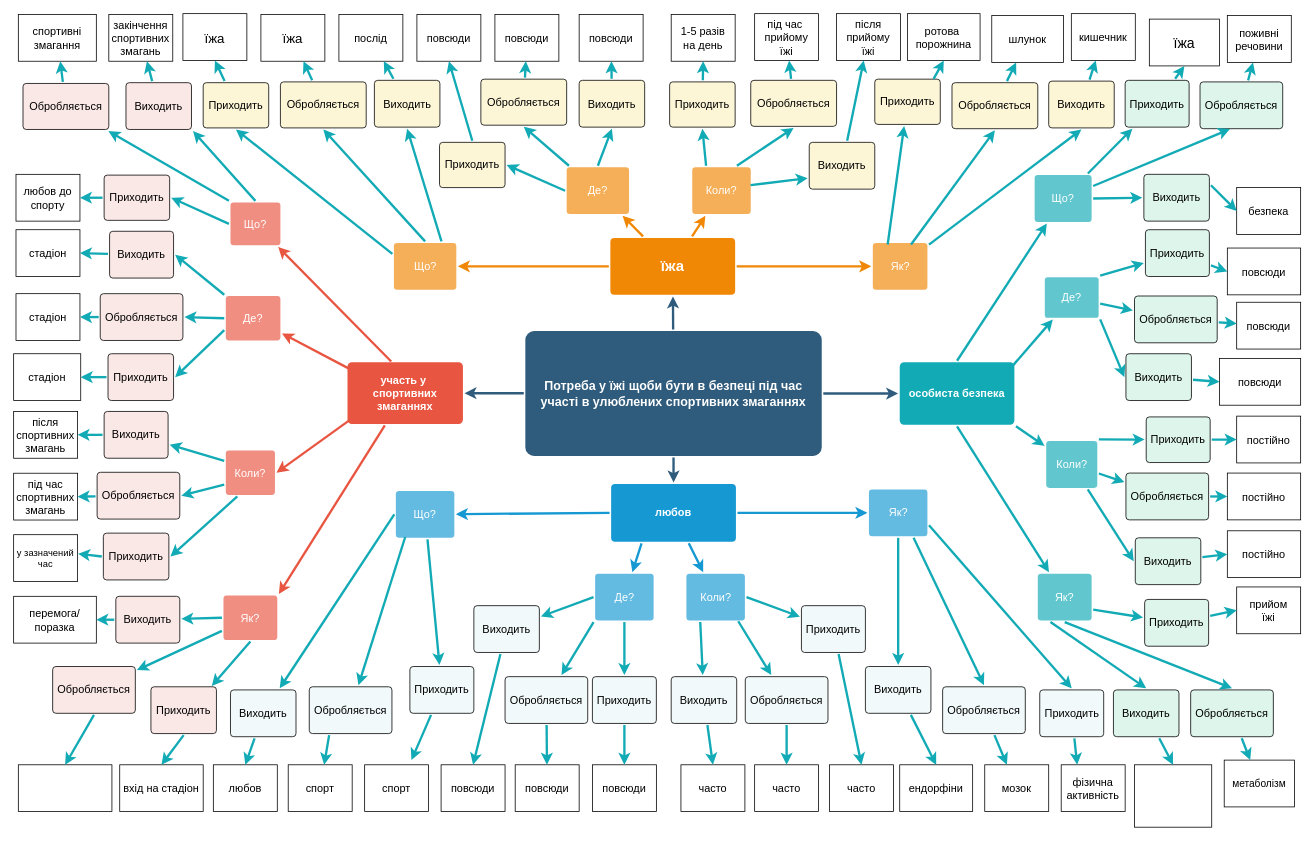
Image size: 1314x841. Some labels were removed from this diagram. Each missing label, with the centre of its shape:
потрапляння необхідних речовин у мозок: the point at 1173,795
спортивні події: the point at 65,788
